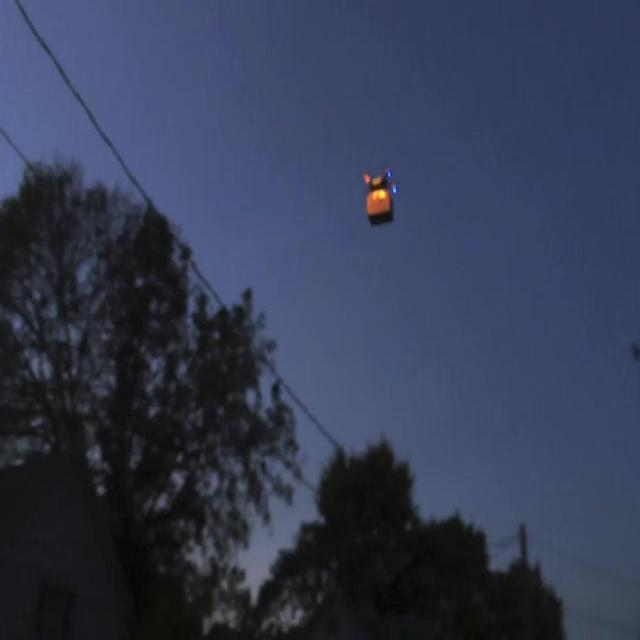UAV: (362, 166, 398, 228)
